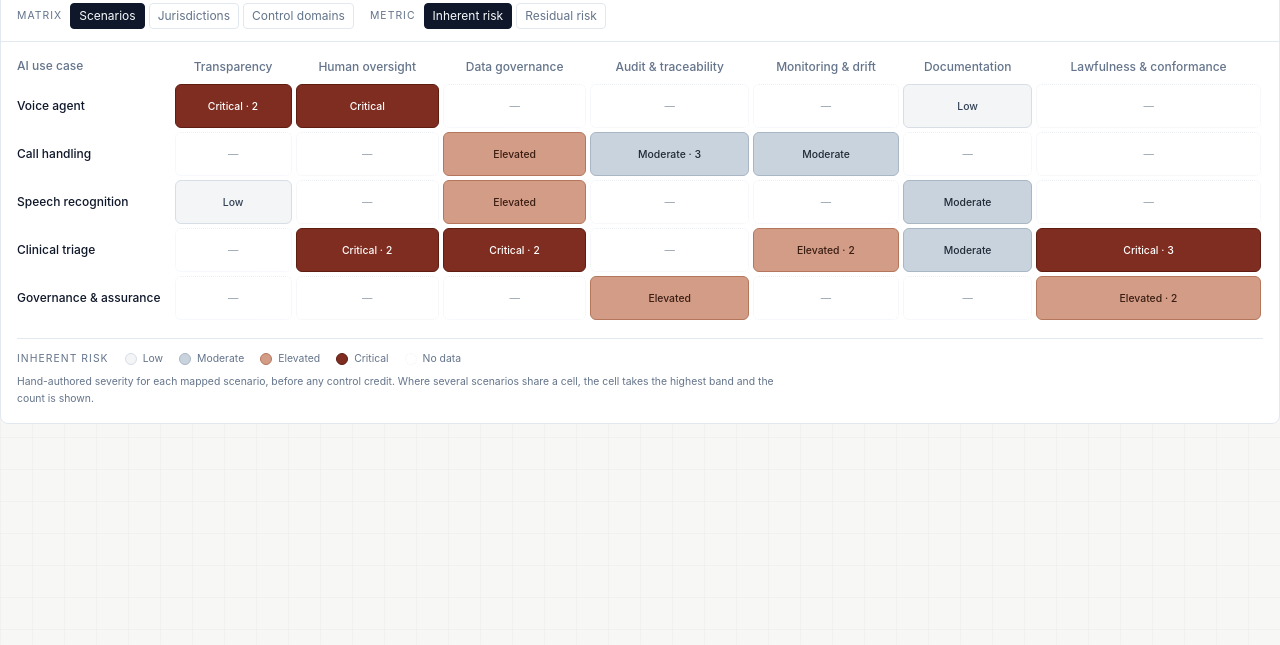
Test case: RiskMatrix › opens a drilldown with records, rationale and coverage
Click the button named "AI use case Clinical triage, Risk domain Lawfulness & conformance".
click(1149, 250)  # box x1=1036 y1=228 x2=1261 y2=272
(page scrolled)
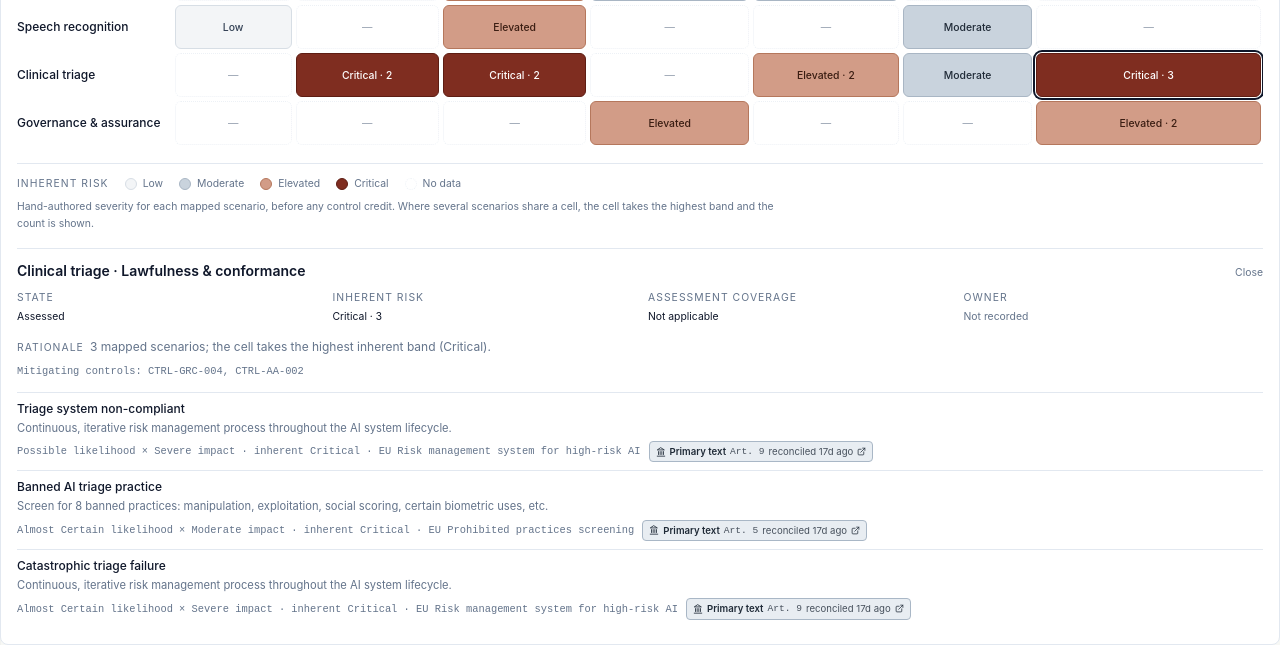
Now the text "Clinical triage · Lawfulness & conformance" is shown, box x1=17 y1=262 x2=305 y2=282
Now the text "Rationale" is shown, box x1=17 y1=341 x2=84 y2=354
Now the text "Mitigating controls: CTRL-GRC-004, CTRL-AA-002" is shown, box x1=17 y1=365 x2=304 y2=377
